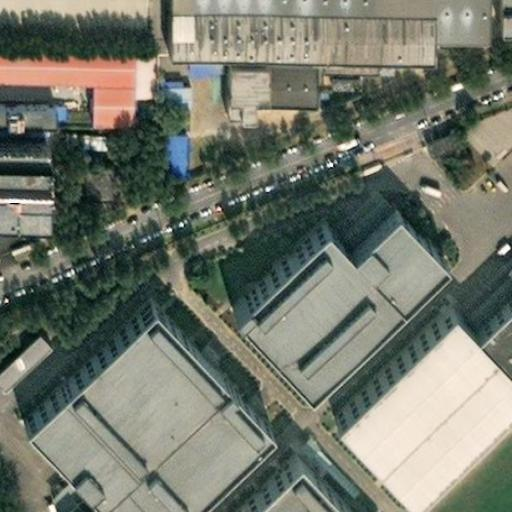building: (14, 291, 260, 512), (220, 194, 431, 378), (324, 305, 511, 511), (211, 441, 353, 512), (478, 311, 512, 379), (311, 42, 385, 73), (260, 41, 312, 84), (157, 70, 181, 158), (218, 40, 261, 76), (60, 129, 110, 152), (0, 92, 49, 115), (218, 75, 260, 95), (179, 40, 219, 58), (489, 0, 508, 14)
